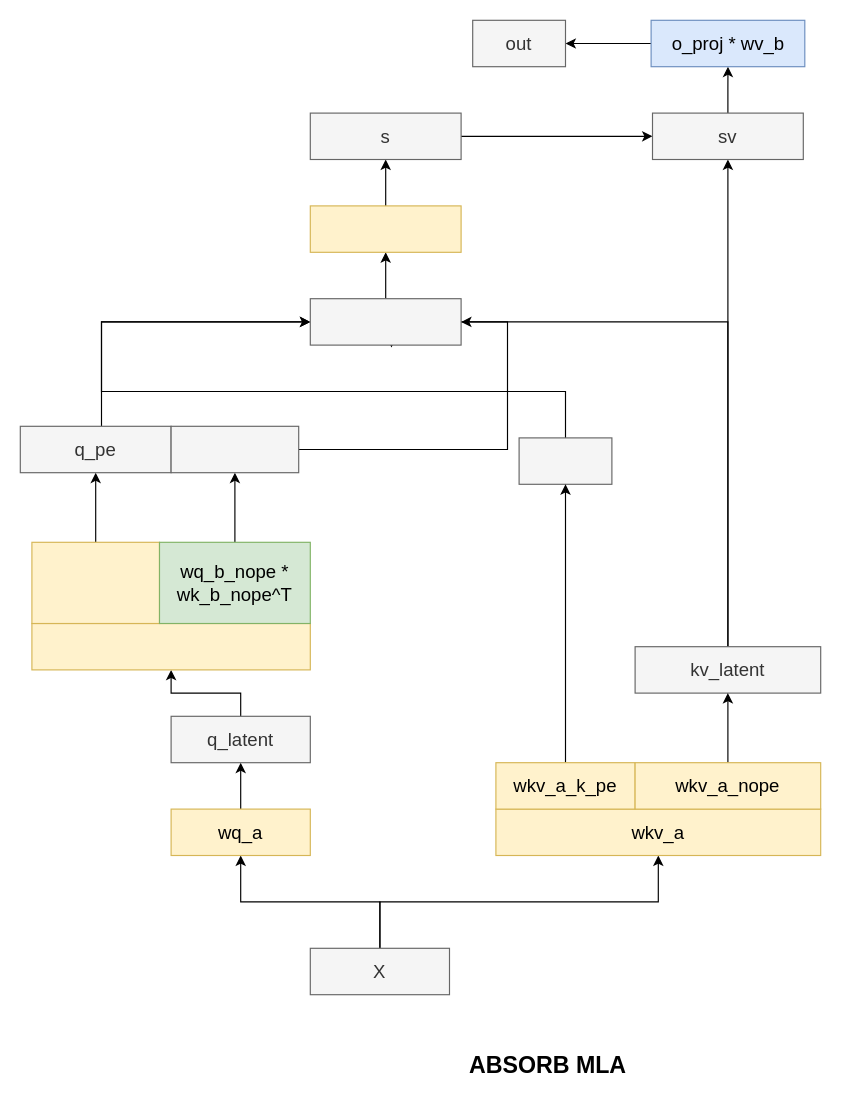
Some shapes in this 841 by 1108 pixel diagram are drawn without their labels. The centre of each missing label's shape, as x and y in pixels:
k_pe: (565,460)
q_absorb: (234,449)
QK^T: (385,321)
softmax: (385,228)
wq_b: (170,646)
wq_b_pe: (95,582)
